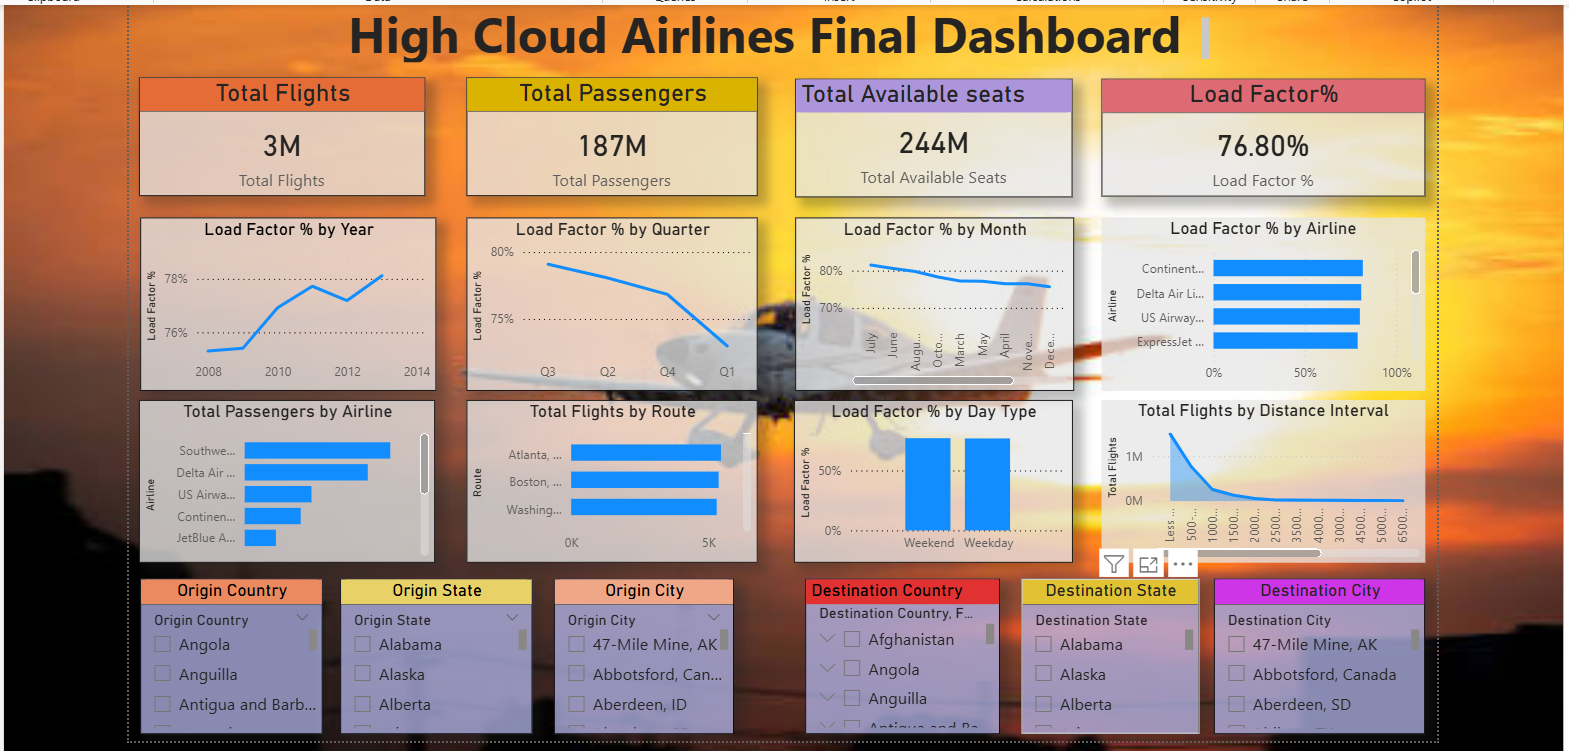

The dashboard page shown, as its layout file describes it:
{"tool":"powerbi","page":{"name":"Dashboard","canvas":[1280,720],"ordinal":1},"visuals":[{"type":"textbox","box":[189.8,0,872,61.2],"z":1000},{"type":"lineChart","fields":{"Y":["Sheet1.Load Factor %"],"Category":["Date.Year"]},"box":[11,207.9,289.8,170],"z":2000},{"type":"lineChart","fields":{"Category":["Date.Quarter"],"Y":["Sheet1.Load Factor %"]},"box":[330.2,207.9,284.9,170],"z":3000},{"type":"lineChart","fields":{"Category":["Date.Month"],"Y":["Sheet1.Load Factor %"]},"box":[651.8,207.9,272.7,170],"z":4000},{"type":"clusteredBarChart","fields":{"Category":["Airlines.Airline"],"Y":["Sheet1.Load Factor %"]},"box":[951.4,207.9,316.7,170],"z":5000},{"type":"barChart","fields":{"Y":["Sheet1.Total Passengers"],"Category":["Airlines.Airline"]},"box":[9.8,386.4,289.8,159],"z":6000},{"type":"barChart","fields":{"Category":["Sheet1.Route"],"Y":["Sheet1.Total Flights"]},"box":[330.2,386.4,284.9,159],"z":7000},{"type":"clusteredColumnChart","fields":{"Category":["Date.Day Type"],"Y":["Sheet1.Load Factor %"]},"box":[650.5,386.4,272.7,159],"z":8000},{"type":"areaChart","fields":{"Category":["Distance Groups.Distance Interval"],"Y":["Sheet1.Total Flights"]},"box":[951.4,386.4,316.7,159],"z":9000},{"type":"card","title":"Total Flights","fields":{"Values":["Sheet1.Total Flights"]},"box":[9.8,70.9,280,116.2],"z":10000},{"type":"card","title":"Total Passengers","fields":{"Values":["Sheet1.Total Passengers"]},"box":[330.2,70.9,284.9,116.2],"z":11000},{"type":"card","title":"Total Available seats","fields":{"Values":["Sheet1.Total Available Seats"]},"box":[651.8,72.1,271.5,116.2],"z":12000},{"type":"card","title":"Load Factor%","fields":{"Values":["Sheet1.Load Factor %"]},"box":[951.4,72.1,316.7,114.9],"z":13000},{"type":"slicer","title":"Origin Country","fields":{"Values":["Sheet1.Origin Country"]},"box":[11,561.3,178.5,151.6],"z":14000},{"type":"slicer","title":"Origin State","fields":{"Values":["Sheet1.Origin State"]},"box":[206.7,561.3,188.3,151.6],"z":15000},{"type":"slicer","title":"Origin City","fields":{"Values":["Sheet1.Origin City"]},"box":[415.8,561.3,176.1,151.6],"z":16000},{"type":"slicer","title":"Destination Country","fields":{"Values":["Sheet1.Destination Country","Sheet1.From - To State Code"]},"box":[661.6,561.3,190.8,151.6],"z":17000},{"type":"slicer","title":"Destination State","fields":{"Values":["Sheet1.Destination State"]},"box":[873.1,561.3,173.6,151.6],"z":18000},{"type":"slicer","title":"Destination City","fields":{"Values":["Sheet1.Destination City"]},"box":[1061.4,561.3,206.7,151.6],"z":19000}]}

Visuals, with their boxes on the page's 1280x720 design canvas (x1, y1, x2, y2). These are canvas units, not pixel positions in the 1569x751 screenshot, which may show the page scaled, cropped or inside an application window:
textbox: BBox(190, 0, 1062, 61)
lineChart - Sheet1.Load Factor % x Date.Year: BBox(11, 208, 301, 378)
lineChart - Date.Quarter x Sheet1.Load Factor %: BBox(330, 208, 615, 378)
lineChart - Date.Month x Sheet1.Load Factor %: BBox(652, 208, 924, 378)
clusteredBarChart - Airlines.Airline x Sheet1.Load Factor %: BBox(951, 208, 1268, 378)
barChart - Sheet1.Total Passengers x Airlines.Airline: BBox(10, 386, 300, 545)
barChart - Sheet1.Route x Sheet1.Total Flights: BBox(330, 386, 615, 545)
clusteredColumnChart - Date.Day Type x Sheet1.Load Factor %: BBox(650, 386, 923, 545)
areaChart - Distance Groups.Distance Interval x Sheet1.Total Flights: BBox(951, 386, 1268, 545)
"Total Flights" card: BBox(10, 71, 290, 187)
"Total Passengers" card: BBox(330, 71, 615, 187)
"Total Available seats" card: BBox(652, 72, 923, 188)
"Load Factor%" card: BBox(951, 72, 1268, 187)
"Origin Country" slicer: BBox(11, 561, 190, 713)
"Origin State" slicer: BBox(207, 561, 395, 713)
"Origin City" slicer: BBox(416, 561, 592, 713)
"Destination Country" slicer: BBox(662, 561, 852, 713)
"Destination State" slicer: BBox(873, 561, 1047, 713)
"Destination City" slicer: BBox(1061, 561, 1268, 713)
